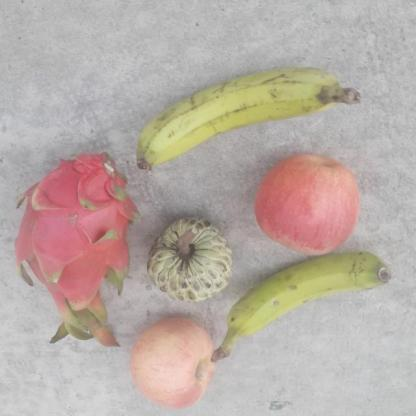annona: (146, 213, 233, 304)
apple: (257, 150, 359, 256), (127, 317, 217, 410)
banana: (136, 67, 362, 172), (213, 254, 393, 363)
pitaya: (12, 152, 143, 347)
